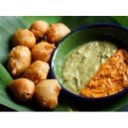bonda: (36, 79, 61, 108), (8, 51, 33, 78), (14, 29, 36, 47), (48, 24, 68, 43)
